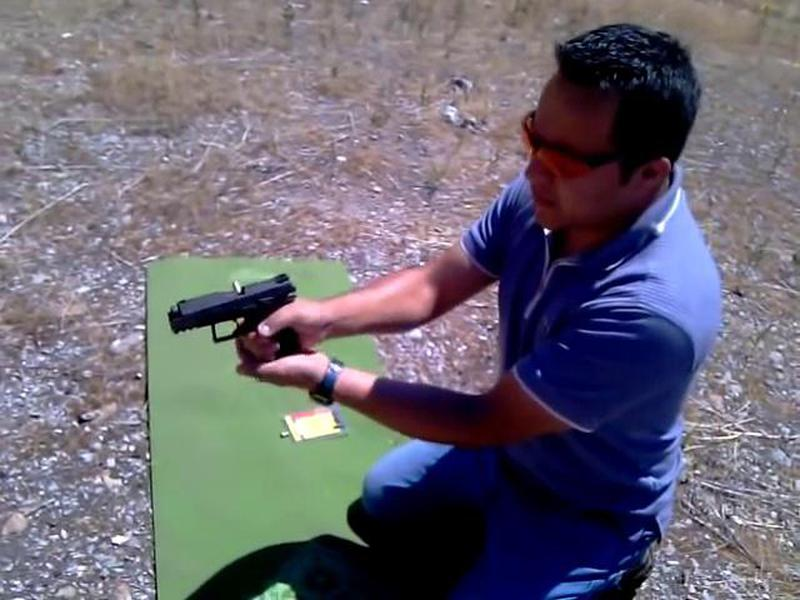Pistola: (158, 249, 321, 384)
